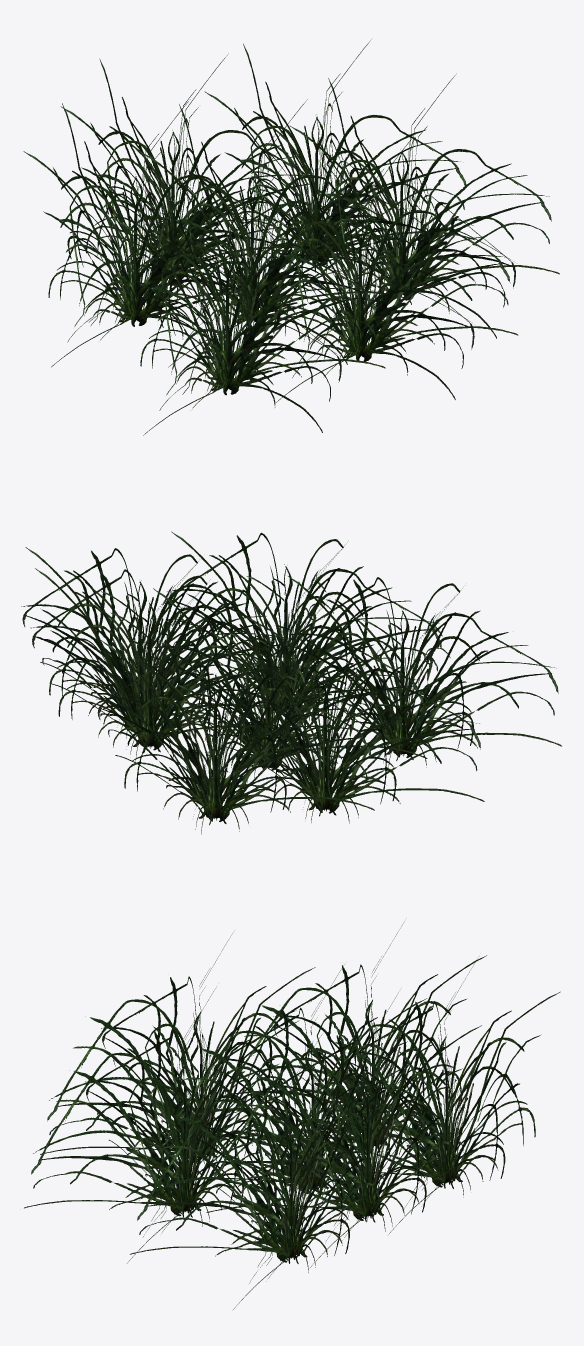
The model's file is grass.obj.
3 views of the same model, one above another, from view 1: azimuth 30°, elevation 25°; view 2: azimuth 150°, elevation 25°; view 3: azimuth 270°, elevation 25° (orthographic).
Parts seen in each view (by area): view 1: grass; view 2: grass; view 3: grass.
Boxes of the visible parts, x1,y1,x2,y2 form: grass: [23, 39, 559, 435]; grass: [21, 531, 561, 834]; grass: [24, 921, 560, 1309].
Size of the model in its own units: 355 by 162 by 339.
Materials: 1 (1 with a texture image).
